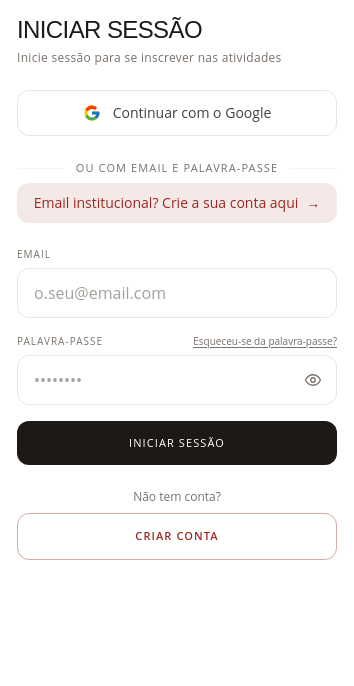
AuthPage — idiomas › /pt/login sale traducido
expect the heading "Iniciar sessão" is shown: met, box left=17, top=16, right=202, bottom=43
Step 1. Click the button "Email institucional? Crie a sua conta aqui →" → [177, 202], box left=17, top=182, right=337, bottom=222
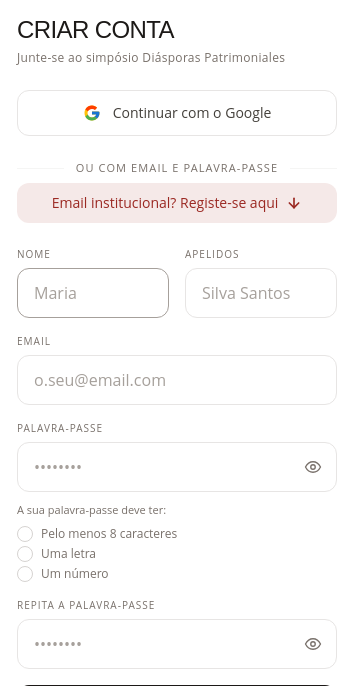
expect the heading "Criar conta" is shown: met, box left=17, top=16, right=174, bottom=43
expect the field labelled "Nome" is shown: met, box left=17, top=268, right=169, bottom=318
